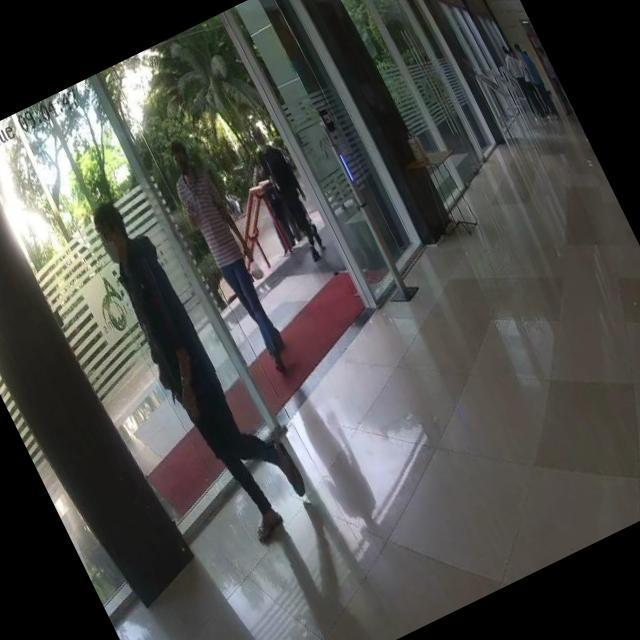person: (82, 174, 322, 552), (152, 132, 306, 382), (248, 122, 334, 264)
